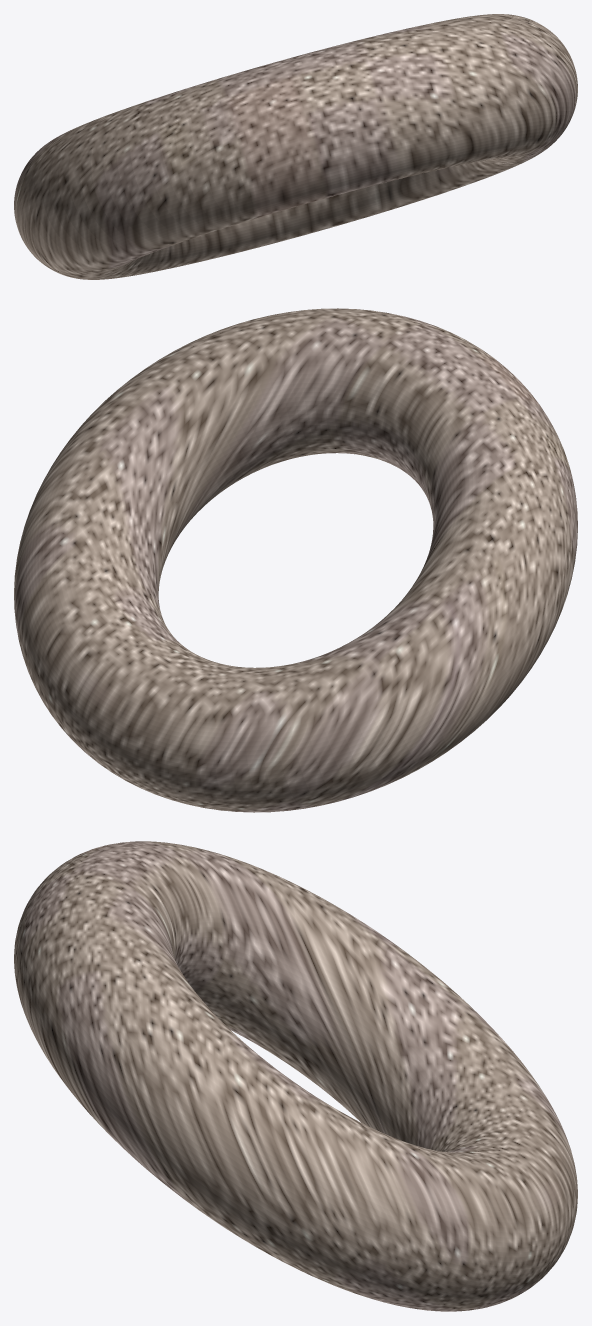
File: donut.obj
3 views of the same model, one above another, from view 1: azimuth 30°, elevation 25°; view 2: azimuth 150°, elevation 25°; view 3: azimuth 270°, elevation 25° (orthographic). The views are drawn at different scales.
Visible parts, largest first — view 1: Object.1; view 2: Object.1; view 3: Object.1.
Boxes of the visible parts, left/top/right/bottom form: Object.1: left=14, top=14, right=577, bottom=279; Object.1: left=14, top=308, right=577, bottom=812; Object.1: left=14, top=841, right=577, bottom=1311.
Size of the model in its own units: 399 by 261 by 352.
1 material, 1 textured.
